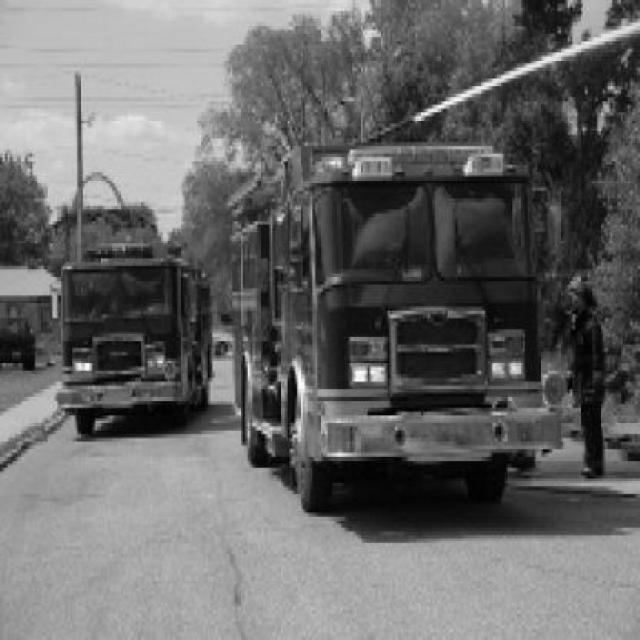Fire Truck: (230, 140, 560, 514), (58, 241, 213, 440)
